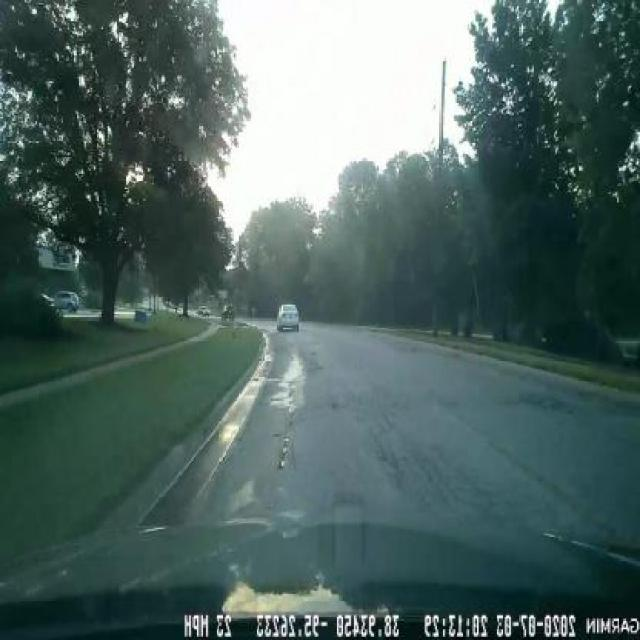pothole: (273, 356, 311, 421)
